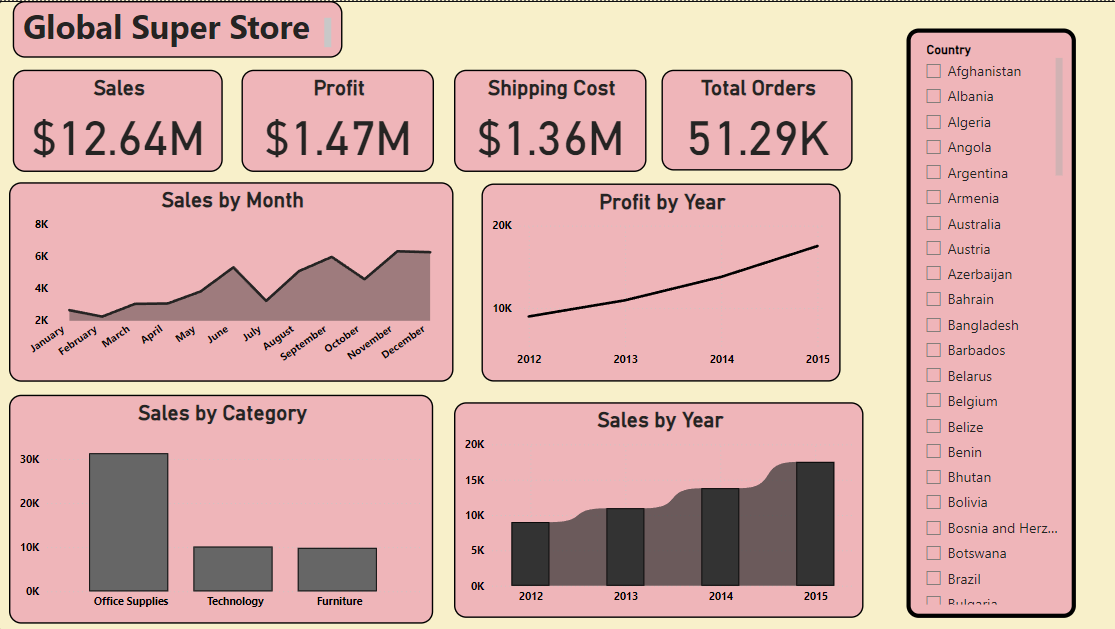

What the dashboard file says about the page in this screenshot:
{"tool":"powerbi","page":{"name":"Page 1","canvas":[1280,720],"ordinal":0},"visuals":[{"type":"columnChart","title":" Sales by Category","fields":{"Category":["Orders.Category"],"Y":["CountNonNull(Orders.Sales)"]},"box":[11.7,450,485,261.7],"z":0},{"type":"ribbonChart","title":"Sales by Year","fields":{"Category":["Orders.Order Date.Variation.Date Hierarchy.Year"],"Y":["CountNonNull(Orders.Sales)"]},"box":[520,458.3,468.3,246.7],"z":1000},{"type":"lineChart","title":" Profit by Year","fields":{"Category":["Orders.Order Date.Variation.Date Hierarchy.Year"],"Y":["CountNonNull(Orders.Profit)"]},"box":[551.7,208.3,410,226.7],"z":2000},{"type":"card","title":"Sales","fields":{"Values":["Sum(Orders.Sales)"]},"box":[15,78.3,240,116.7],"z":3000},{"type":"card","title":"Profit","fields":{"Values":["Sum(Orders.Profit)"]},"box":[276.7,78.3,220,116.7],"z":4000},{"type":"card","title":"Shipping Cost","fields":{"Values":["Sum(Orders.Shipping Cost)"]},"box":[520,78.3,220,116.7],"z":5000},{"type":"card","title":"Total Orders","fields":{"Values":["CountNonNull(Orders.Order ID)"]},"box":[756.7,78.3,218.3,115],"z":6000},{"type":"slicer","fields":{"Values":["Orders.Country"]},"box":[1036.7,31.7,193.3,673.3],"z":7000},{"type":"areaChart","title":"Sales by Month","fields":{"Category":["Orders.Order Date.Variation.Date Hierarchy.Month"],"Y":["CountNonNull(Orders.Sales)"]},"box":[11.7,206.7,508.3,228.3],"z":8000},{"type":"textbox","box":[15,0,376.7,65],"z":8003}]}

Visuals, with their boxes in screenshot pixels (x1, y1, x2, y2), scaled from the page's 1280x720 canvas onto the 1115x629 screenshot:
" Sales by Category" columnChart: l=10, t=393, r=433, b=622
"Sales by Year" ribbonChart: l=453, t=400, r=861, b=616
" Profit by Year" lineChart: l=481, t=182, r=838, b=380
"Sales" card: l=13, t=68, r=222, b=170
"Profit" card: l=241, t=68, r=433, b=170
"Shipping Cost" card: l=453, t=68, r=645, b=170
"Total Orders" card: l=659, t=68, r=849, b=169
slicer - Orders.Country: l=903, t=28, r=1071, b=616
"Sales by Month" areaChart: l=10, t=181, r=453, b=380
textbox: l=13, t=0, r=341, b=57
